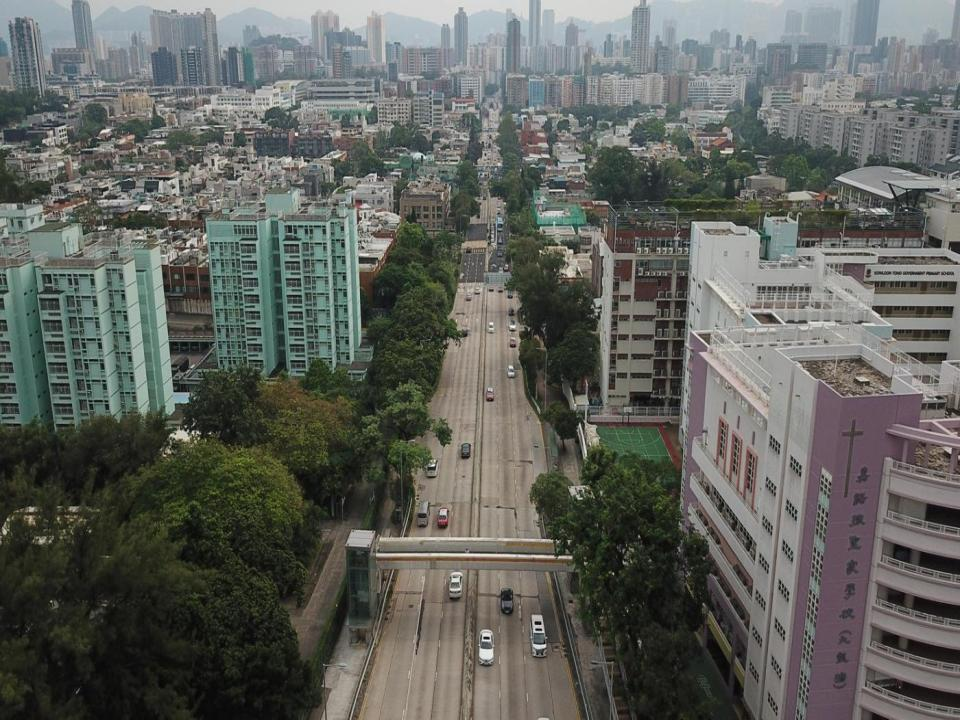car: (479, 629, 494, 665), (499, 588, 514, 613), (449, 572, 463, 598), (437, 508, 449, 528), (460, 443, 471, 458), (507, 365, 515, 378), (508, 320, 516, 331), (487, 388, 494, 400), (509, 337, 516, 347), (508, 308, 514, 315), (462, 328, 467, 336)
van: (529, 614, 547, 657), (417, 499, 430, 526), (426, 458, 438, 477), (488, 322, 494, 332)
